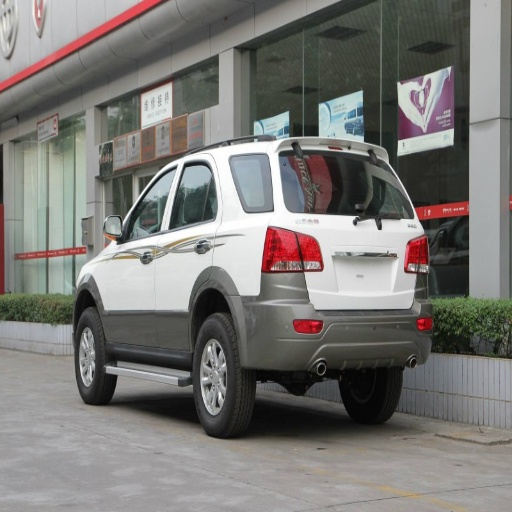back_bumper: (234, 274, 430, 373)
back_glass: (230, 151, 411, 216)
back_left_door: (156, 160, 219, 355)
tailgate: (297, 216, 413, 304)
trunk: (304, 259, 417, 308)
